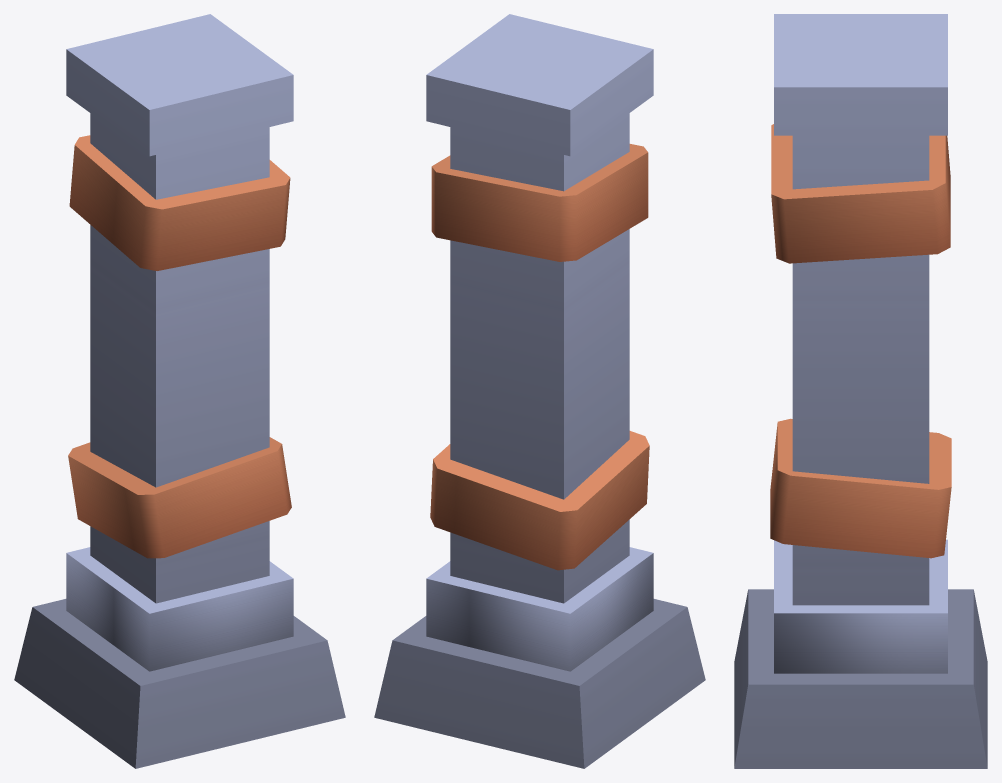
The model's file is column-large.glb.
3 renders of one model, left to right at view 1: azimuth 30°, elevation 25°; view 2: azimuth 150°, elevation 25°; view 3: azimuth 270°, elevation 25°, orthographic. The views are drawn at different scales.
Parts seen in each view (by area): view 1: Asset3DLoader.sceneRoot; view 2: Asset3DLoader.sceneRoot; view 3: Asset3DLoader.sceneRoot.
Boxes of the visible parts, left/top/right/bottom form: Asset3DLoader.sceneRoot: left=14, top=14, right=345, bottom=768; Asset3DLoader.sceneRoot: left=374, top=14, right=705, bottom=768; Asset3DLoader.sceneRoot: left=734, top=14, right=987, bottom=768.
Bounding box in the file's own units: 0.38 × 1.1 × 0.38.
1 material, 1 textured.
